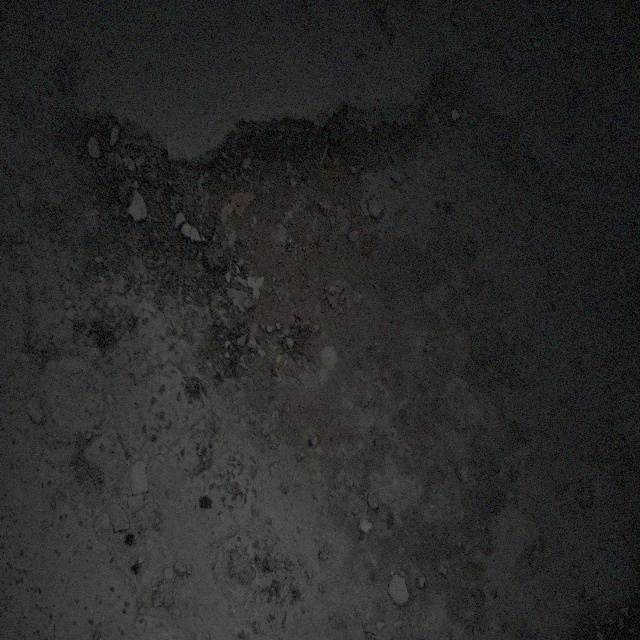pothole: (80, 103, 544, 534)
